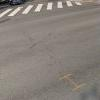Crosswalk: (2, 2, 99, 22)
